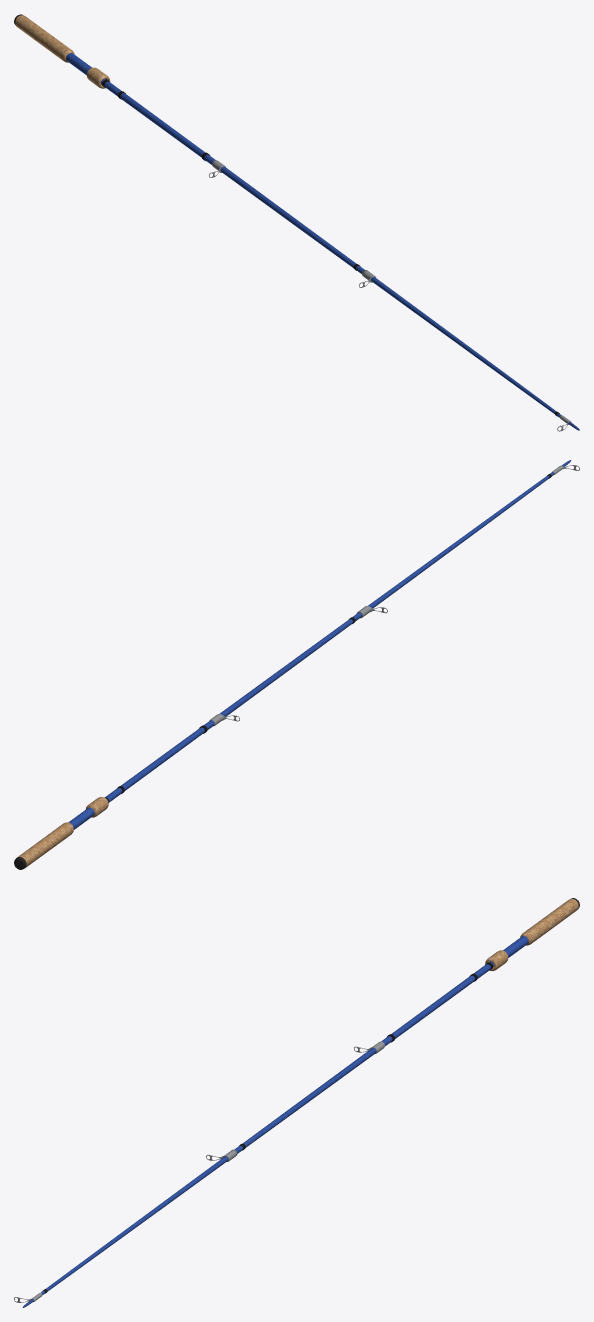
Rendered from rod_1.fbx.
3 renders of one model, top to bottom at view 1: azimuth 30°, elevation 25°; view 2: azimuth 150°, elevation 25°; view 3: azimuth 330°, elevation 25°, orthographic.
Visible parts, largest first — view 1: Handle.011, Handle; view 2: Handle.011, Handle; view 3: Handle.011, Handle.
Boxes of the visible parts, x1,y1,x2,y2 form: Handle.011: (101, 78, 579, 430); Handle: (15, 15, 74, 62); Handle.011: (105, 460, 571, 802); Handle: (17, 822, 73, 867); Handle.011: (22, 961, 494, 1307); Handle: (520, 898, 578, 945).
Size of the model in its own units: 5.58 by 2.92 by 230.
Materials: 1 (1 with a texture image).
